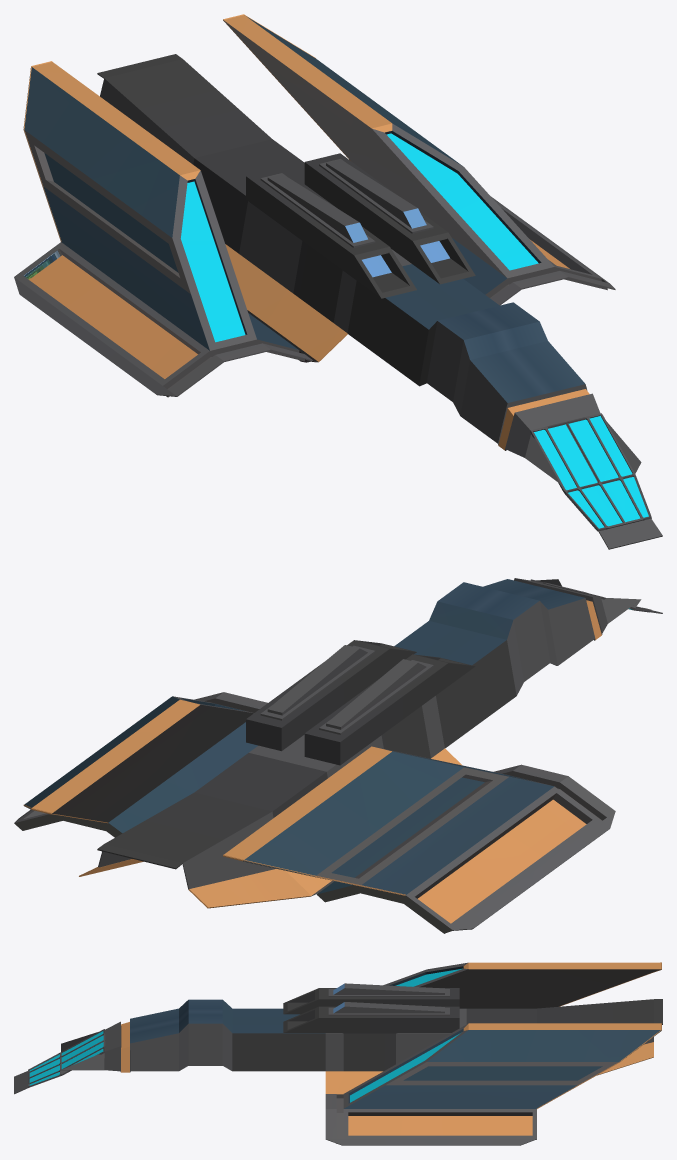
Rendered from SpaceShipTop.fbx.
The picture shows the model from 3 angles, top to bottom: view 1: azimuth 30°, elevation 25°; view 2: azimuth 150°, elevation 25°; view 3: azimuth 270°, elevation 25°; orthographic projection. The views are drawn at different scales.
Visible parts, largest first — view 1: Cube.002; view 2: Cube.002; view 3: Cube.002.
Boxes of the visible parts, bbox=[...] form: Cube.002: bbox=[14, 14, 662, 549]; Cube.002: bbox=[14, 578, 662, 933]; Cube.002: bbox=[14, 962, 662, 1145].
Size of the model in its own units: 582 by 171 by 1108.
